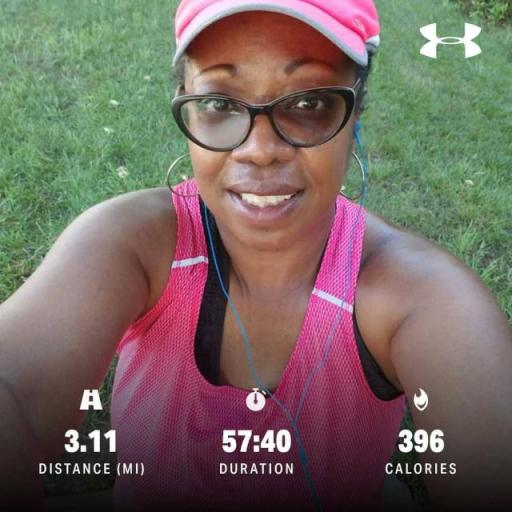Under Armour: (415, 19, 486, 63)
